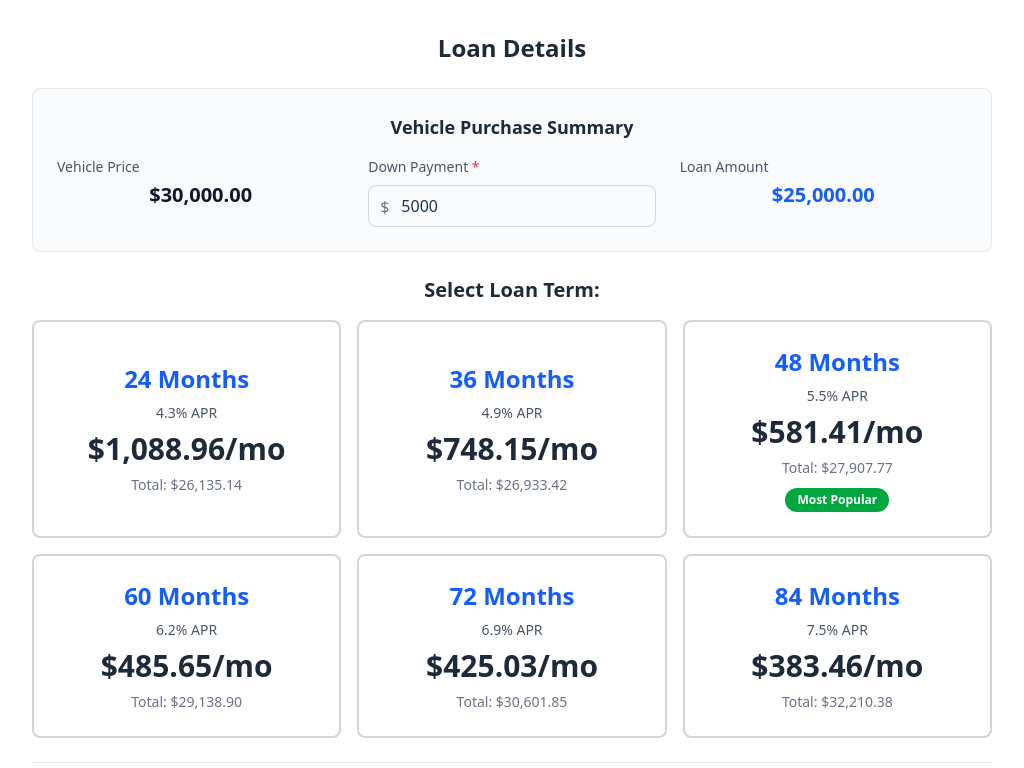
Test: LoanDetails Component › Down Payment Input › should update loan amount when down payment changes
Replace the text in the number field labelled "Down Payment *" with "10000": (512, 206) [368,185,656,227]
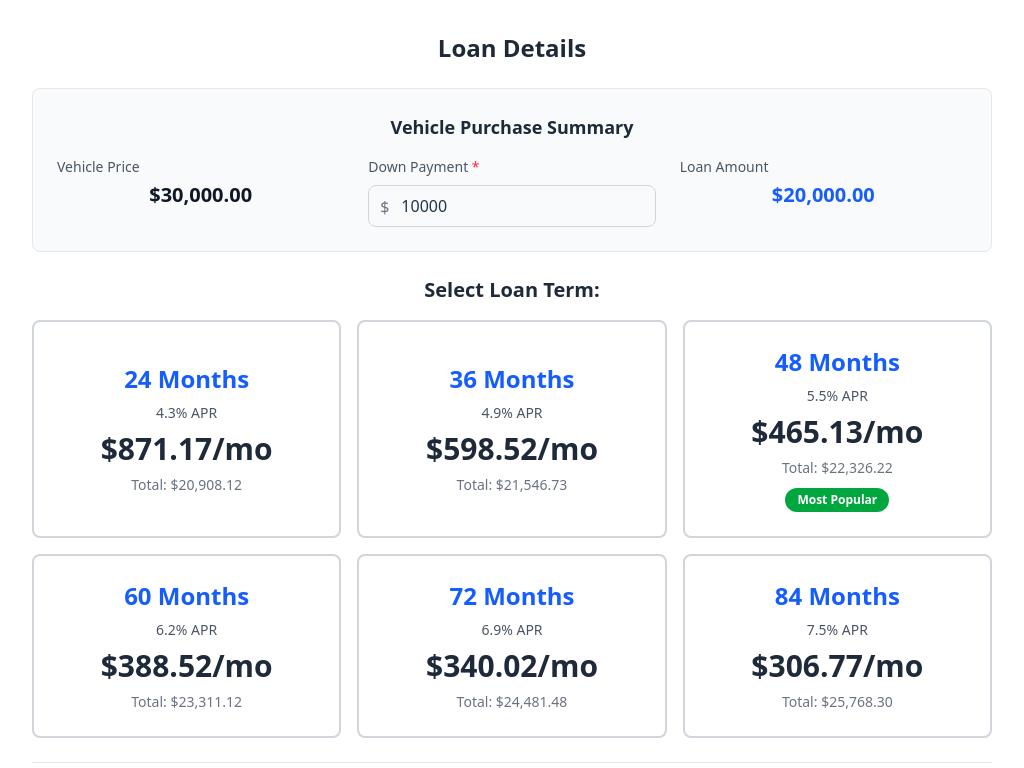
Check: the text "$20,000.00" is shown, box [772,181,875,208]
